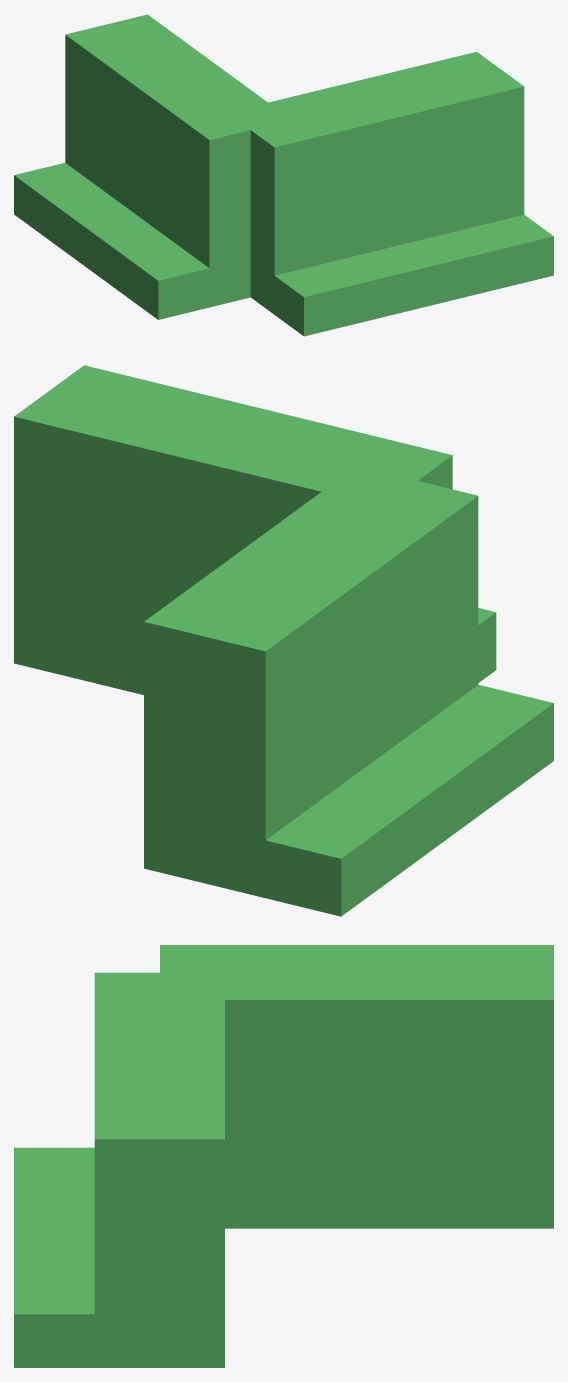
The model's file is parapet_combat_corner_outer_collision.glb.
The picture shows the model from 3 angles, top to bottom: view 1: azimuth 30°, elevation 25°; view 2: azimuth 150°, elevation 25°; view 3: azimuth 270°, elevation 25°; orthographic projection. The views are drawn at different scales.
Visible parts, largest first — view 1: parapet_combat_corner_outer_x_wall-col, parapet_combat_corner_outer_y_wall-col, parapet_combat_corner_outer_x_step-col, parapet_combat_corner_outer_y_step-col; view 2: parapet_combat_corner_outer_y_wall-col, parapet_combat_corner_outer_x_wall-col, parapet_combat_corner_outer_y_step-col, parapet_combat_corner_outer_x_step-col; view 3: parapet_combat_corner_outer_y_wall-col, parapet_combat_corner_outer_x_wall-col, parapet_combat_corner_outer_x_step-col.
Part boxes in pixels (x1,y1,x2,y2): parapet_combat_corner_outer_x_wall-col: [227, 51, 524, 310]; parapet_combat_corner_outer_y_wall-col: [65, 14, 290, 305]; parapet_combat_corner_outer_x_step-col: [269, 214, 553, 336]; parapet_combat_corner_outer_y_step-col: [14, 163, 218, 319]; parapet_combat_corner_outer_y_wall-col: [144, 466, 478, 897]; parapet_combat_corner_outer_x_wall-col: [14, 365, 452, 694]; parapet_combat_corner_outer_y_step-col: [252, 684, 553, 916]; parapet_combat_corner_outer_x_step-col: [478, 608, 496, 682]; parapet_combat_corner_outer_y_wall-col: [160, 945, 553, 1228]; parapet_combat_corner_outer_x_wall-col: [94, 972, 224, 1367]; parapet_combat_corner_outer_x_step-col: [14, 1147, 108, 1367].
Bounding box in the file's own units: 2.74 × 1.28 × 2.74.
